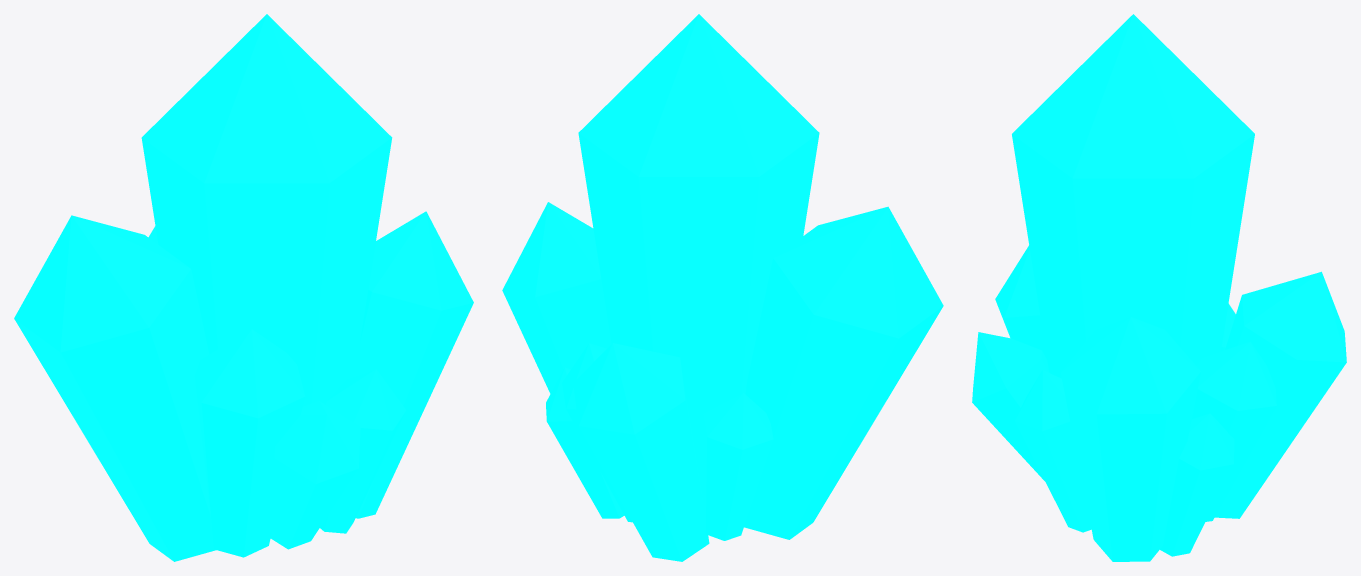
The model's file is Cristal.fbx.
3 renders of one model, left to right at view 1: azimuth 30°, elevation 25°; view 2: azimuth 150°, elevation 25°; view 3: azimuth 270°, elevation 25°, orthographic. The views are drawn at different scales.
Parts seen in each view (by area): view 1: Cristal; view 2: Cristal; view 3: Cristal.
Part boxes in pixels (bbox=[...]): Cristal: bbox=[14, 14, 473, 561]; Cristal: bbox=[502, 14, 943, 561]; Cristal: bbox=[972, 14, 1346, 561].
Size of the model in its own units: 588 by 703 by 470.
